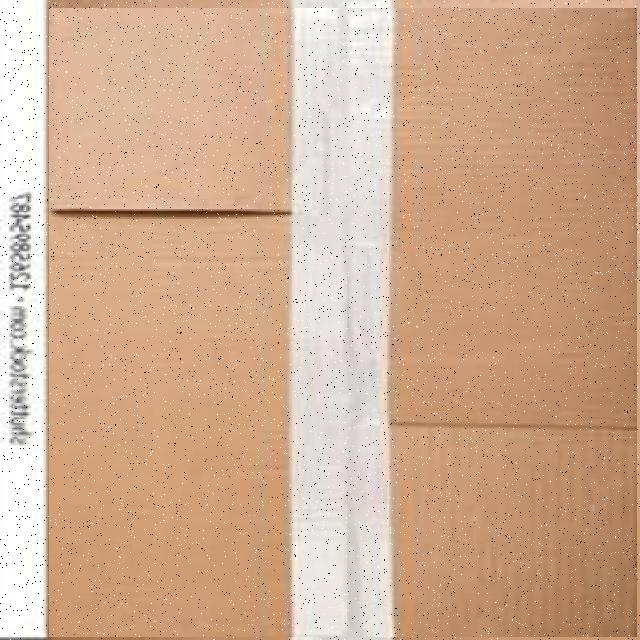normal: (49, 8, 637, 637)
